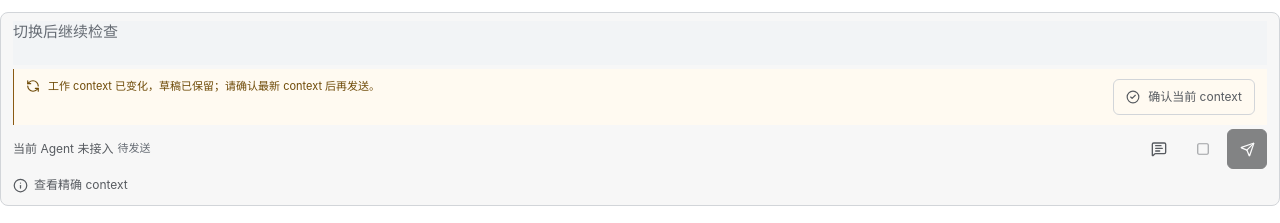
Scenario: WorkerComposer › requires explicit context confirmation before sending a retained draft
This screenshot has width=1280, height=223.
Expected: the text box named "介入这个 Worker" is disabled, [13,21,1267,65]
Click the button "确认当前 context" at x=1184, y=97, box [1113,79,1255,115]
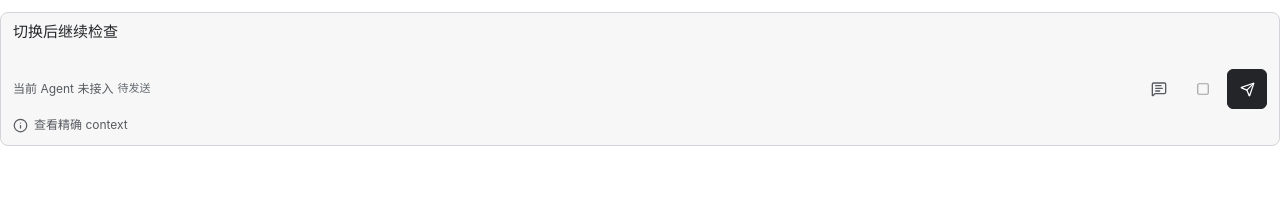
Expected: the text box named "介入这个 Worker" holds "切换后继续检查", [13,21,1267,65]
Expected: the text box named "介入这个 Worker" is enabled, [13,21,1267,65]
